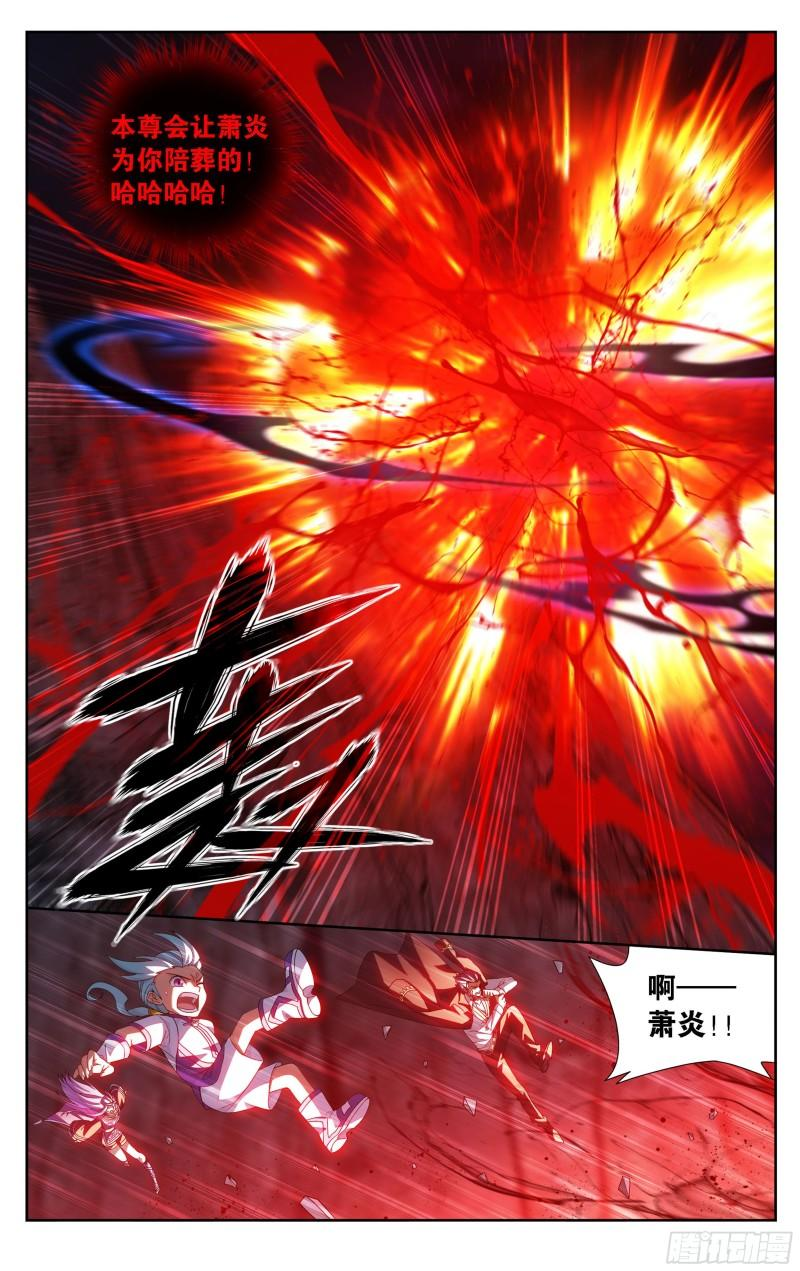boxBad: (75, 38, 312, 275)
boxBomb: (585, 934, 777, 1089)
minBox: (18, 23, 783, 961), (18, 901, 783, 1228)
